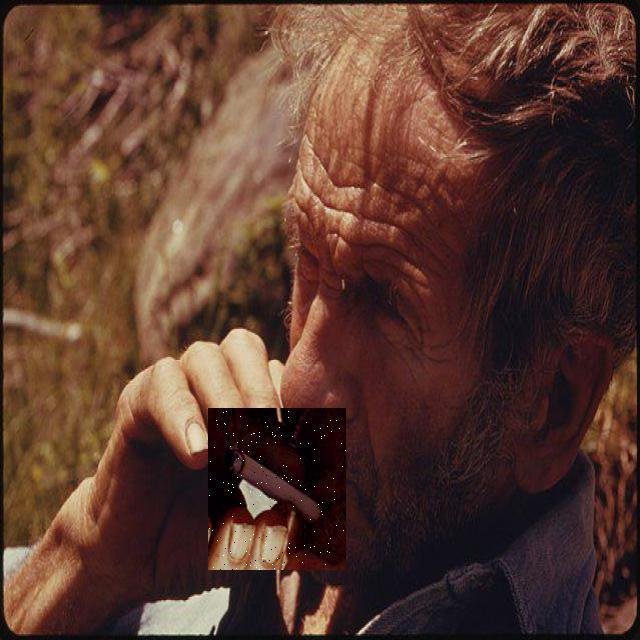smoking: (208, 408, 346, 570)
